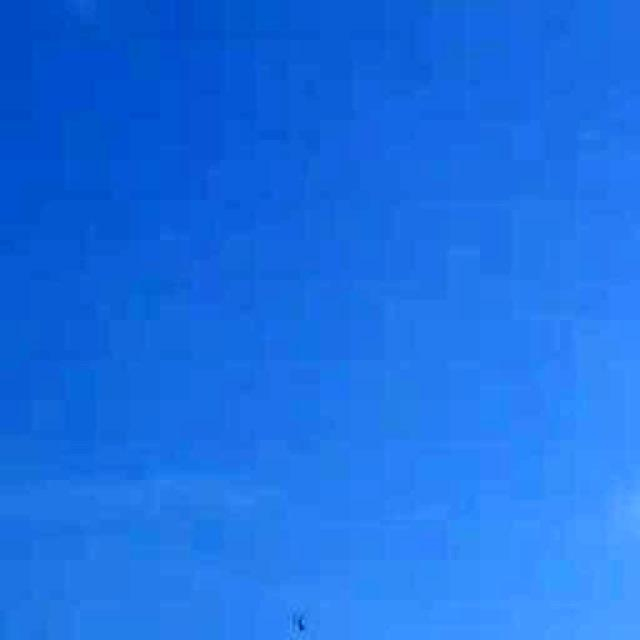drone: (279, 591, 319, 640)
